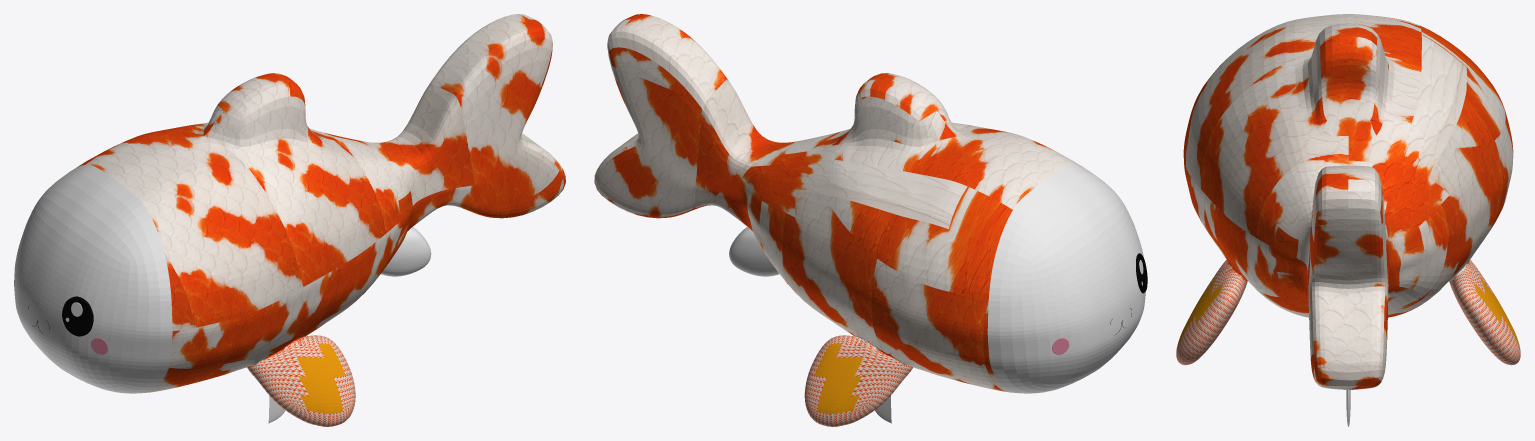
Rendered from 26-06-16_Koifish.glb.
The picture shows the model from 3 angles, left to right: view 1: azimuth 30°, elevation 25°; view 2: azimuth 150°, elevation 25°; view 3: azimuth 270°, elevation 25°; orthographic projection. The views are drawn at different scales.
Parts seen in each view (by area): view 1: Body, Finn R, Finn, Eye; view 2: Body, Finn R, Finn; view 3: Body, Finn R.
Part boxes in pixels (left/top/right/bottom): Body: left=14, top=14, right=565, bottom=393; Finn R: left=247, top=335, right=355, bottom=426; Finn: left=381, top=227, right=431, bottom=276; Eye: left=62, top=296, right=93, bottom=336; Body: left=594, top=14, right=1145, bottom=393; Finn R: left=804, top=335, right=912, bottom=426; Finn: left=729, top=227, right=779, bottom=276; Body: left=1183, top=14, right=1513, bottom=389; Finn R: left=1176, top=259, right=1520, bottom=365.
Bounding box in the file's own units: 33.12 × 21.04 × 16.59.
Materials: 7 (2 with a texture image).
